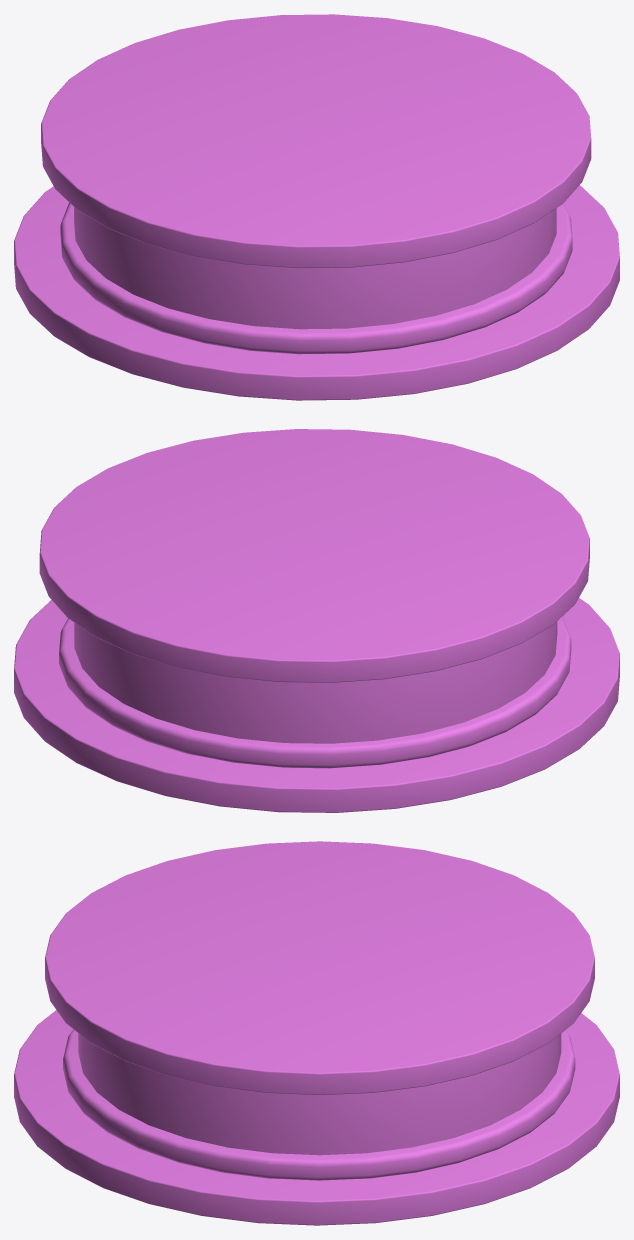
Rendered from PLATAFORMA MANIQUIS.fbx.
The picture shows the model from 3 angles, top to bottom: view 1: azimuth 30°, elevation 25°; view 2: azimuth 150°, elevation 25°; view 3: azimuth 270°, elevation 25°; orthographic projection.
Visible parts, largest first — view 1: PLATMANIQUIS; view 2: PLATMANIQUIS; view 3: PLATMANIQUIS.
Part boxes in pixels (x1,y1,x2,y2): PLATMANIQUIS: [14, 14, 619, 400]; PLATMANIQUIS: [14, 429, 619, 812]; PLATMANIQUIS: [14, 841, 619, 1225].
Bounding box in the file's own units: 314 × 80.74 × 314.
